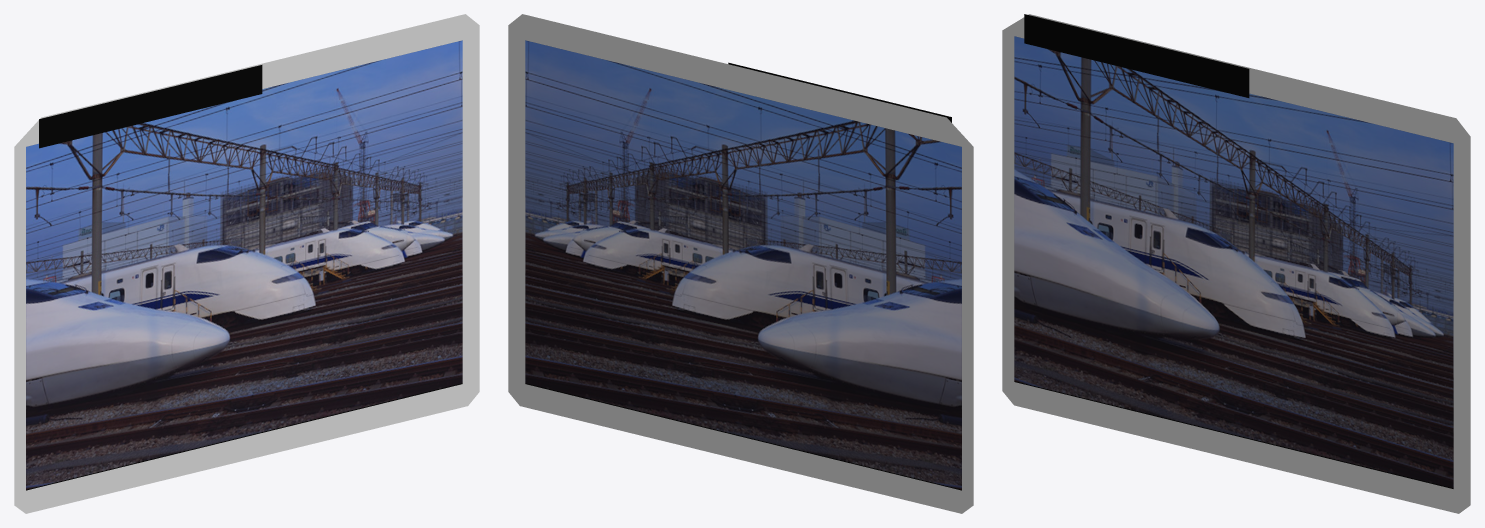
File: PHOTO02.glb
3 renders of one model, left to right at view 1: azimuth 30°, elevation 25°; view 2: azimuth 150°, elevation 25°; view 3: azimuth 330°, elevation 25°, orthographic.
Parts seen in each view (by area): view 1: obj11; view 2: obj11; view 3: obj11.
Part boxes in pixels (<box>): obj11: <box>14,14,479,513</box>; obj11: <box>508,14,973,513</box>; obj11: <box>1002,14,1470,513</box>.
Size of the model in its own units: 26.66 by 21.5 by 0.1408.
Materials: 3 (3 with a texture image).
